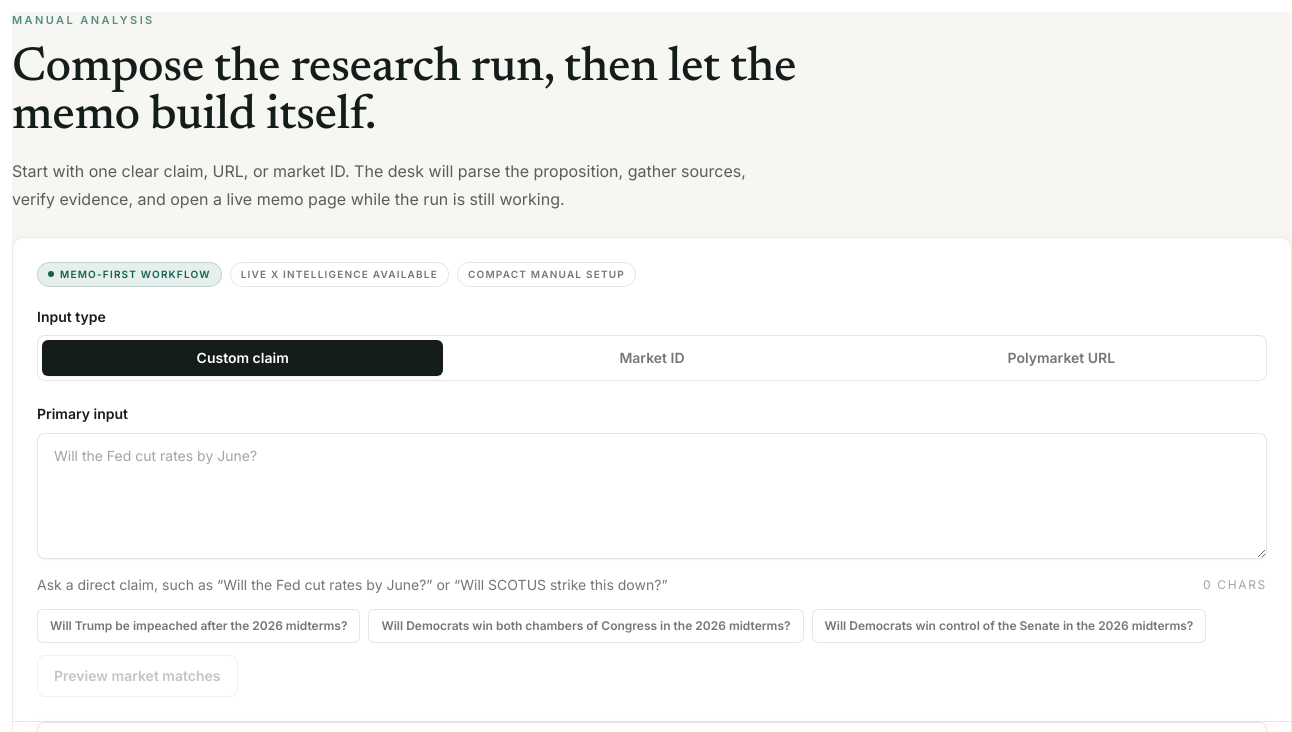
Test case: ManualAnalysisForm › can fill a political manual-analysis example
Click the button "Democrats win control of the Senate": (1009, 626) [812,608,1206,642]
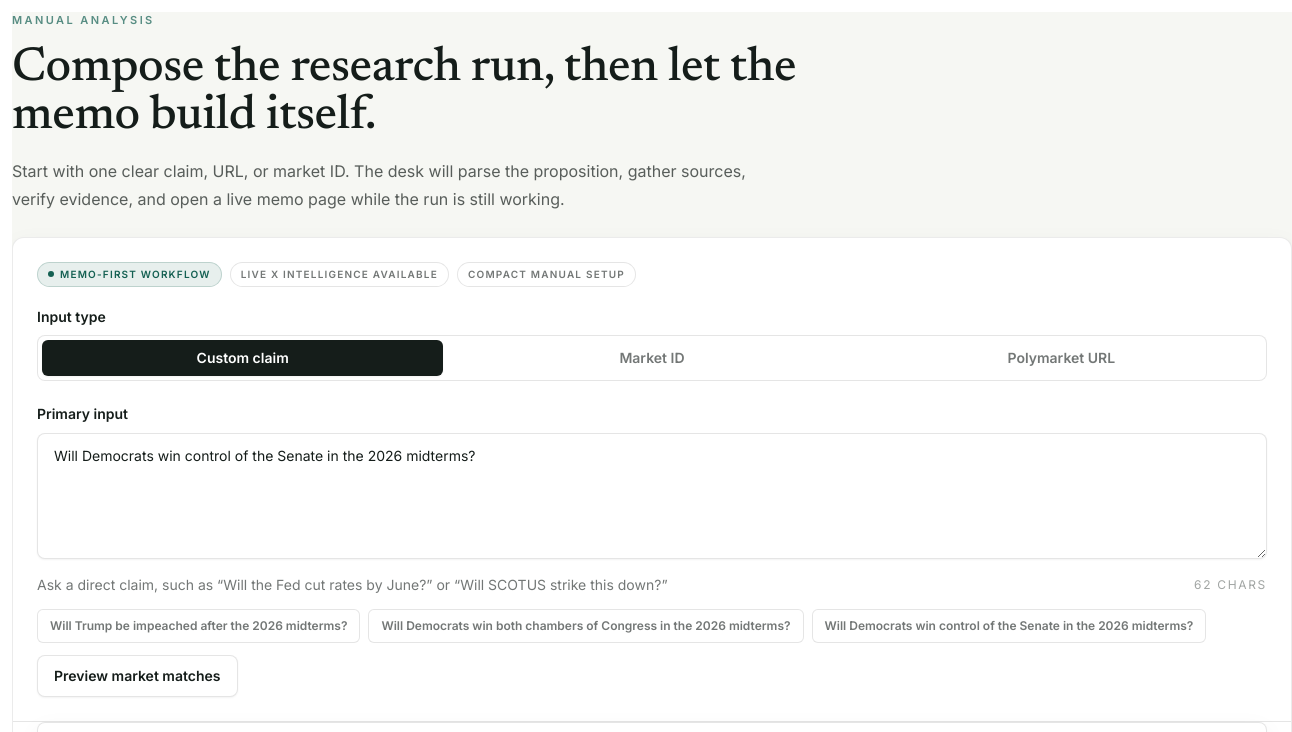
Check: the text box labelled "Primary input" holds "Will Democrats win control of the Senate in the 2026 midterms?", box [37,432,1267,558]
